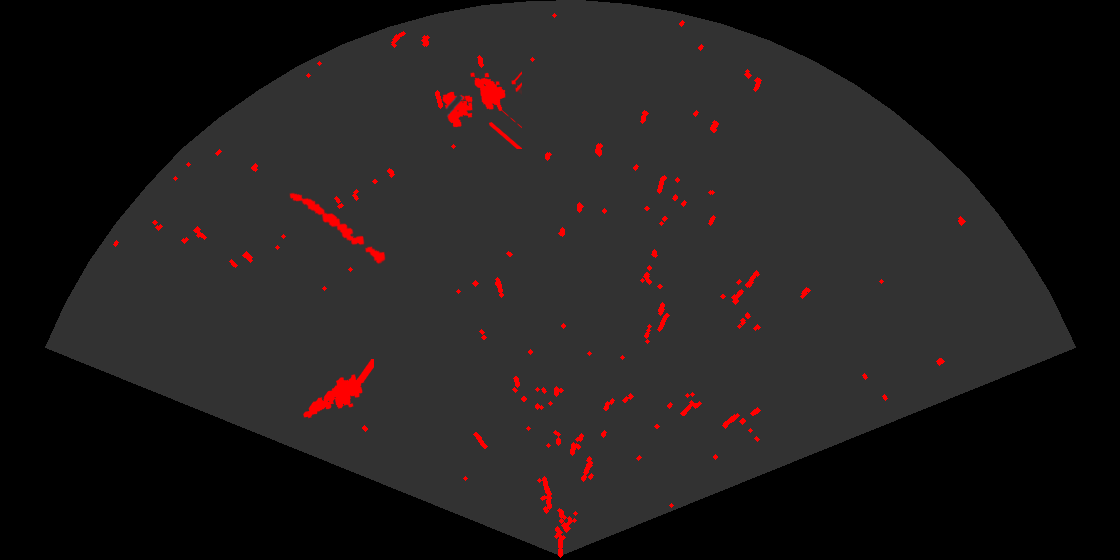cage: (441, 70, 522, 149)
chain: (288, 191, 387, 266)
frogman: (302, 359, 374, 420)
